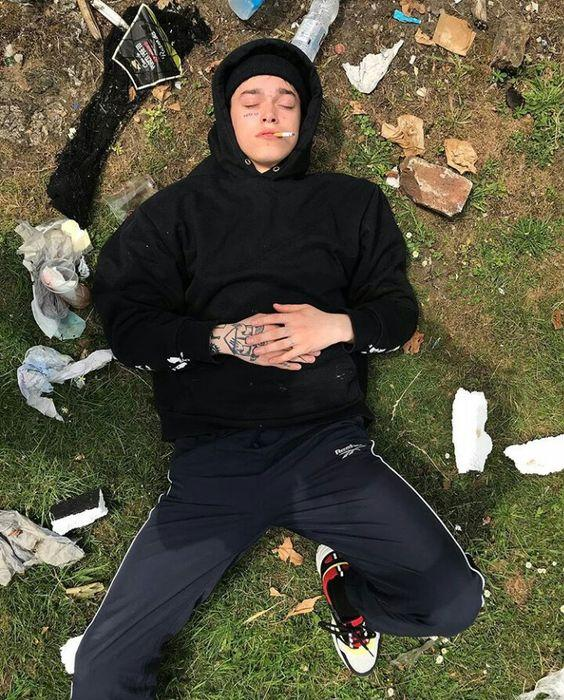cigarette: (272, 132, 295, 137)
